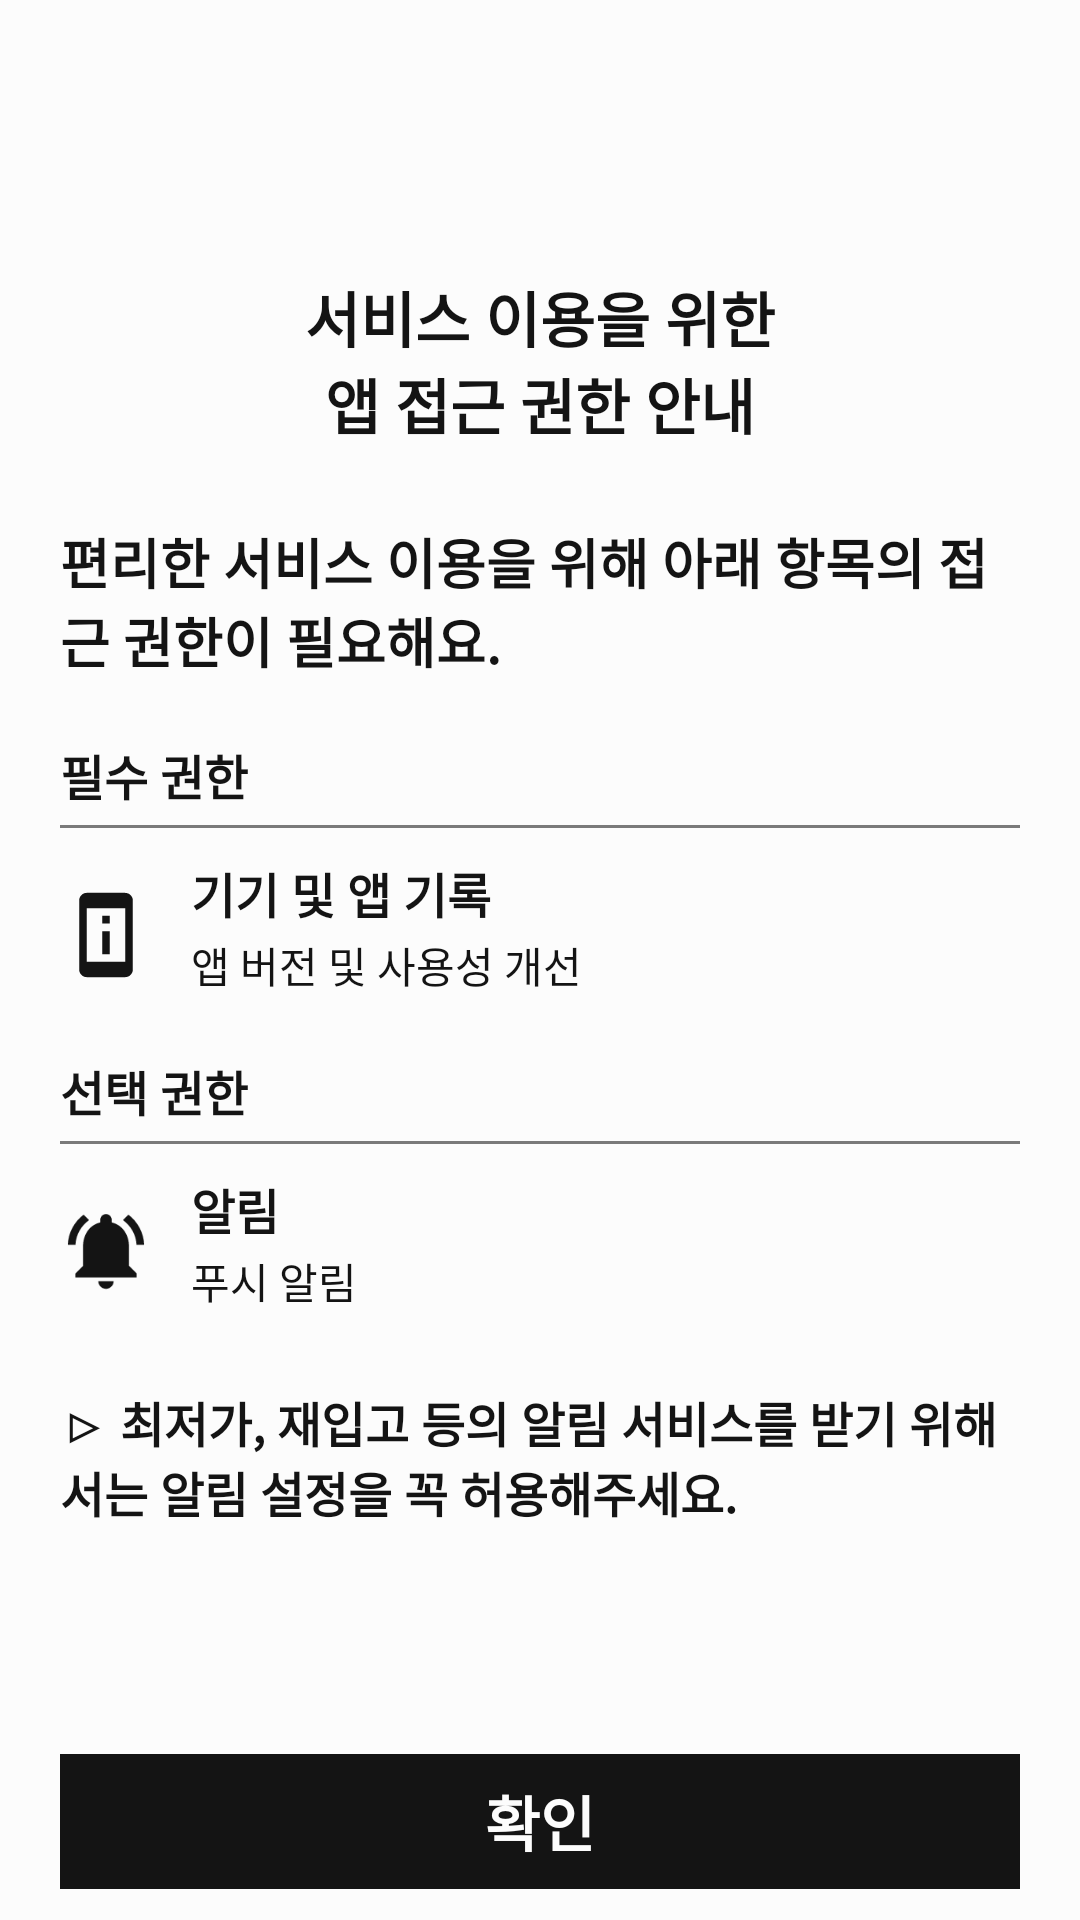

Where icons sit on this 1080w x 1920h app screen, as {"x1": x1, "y1": y1, "x2": x2, "y2": y2}:
notifications: {"x1": 68, "y1": 1214, "x2": 144, "y2": 1289}
perm device information: {"x1": 79, "y1": 892, "x2": 133, "y2": 978}
